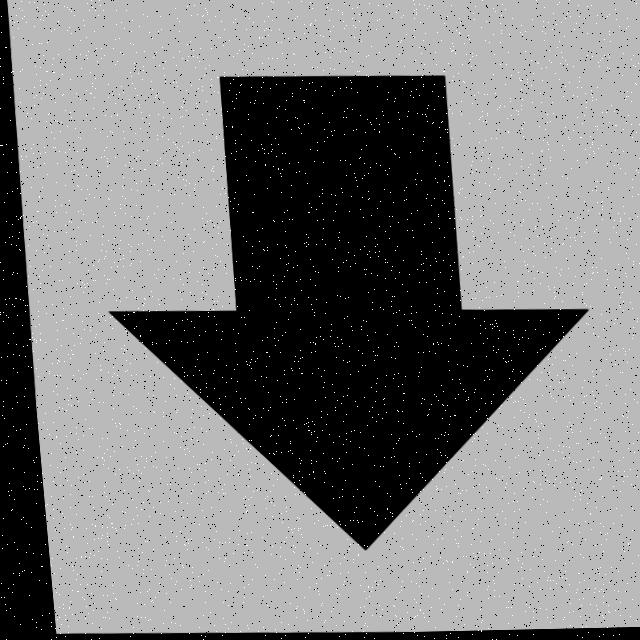DOWN: (107, 78, 579, 548)
